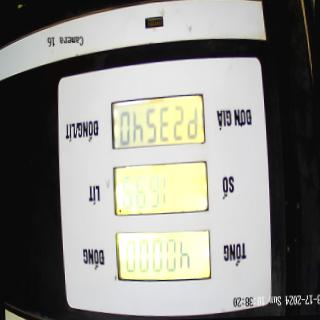screen: (109, 89, 212, 288)
